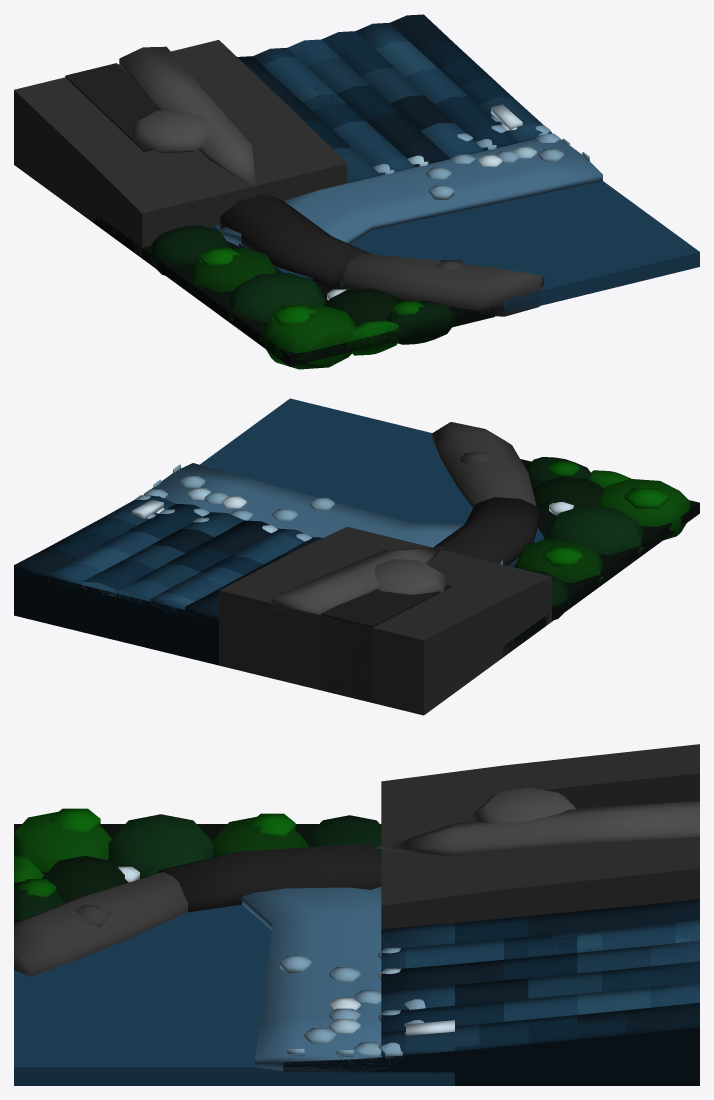
The model's file is newshh-157.glb.
3 views of the same model, one above another, from view 1: azimuth 30°, elevation 25°; view 2: azimuth 150°, elevation 25°; view 3: azimuth 270°, elevation 25° (orthographic). The views are drawn at different scales.
Visible parts, largest first — view 1: newshh-157, newshh-157-water-157, newshh-157-water-278, newshh-157-water-203, newshh-157-water-272; view 2: newshh-157, newshh-157-water-157, newshh-157-water-203, newshh-157-water-278, newshh-157-water-272; view 3: newshh-157, newshh-157-water-157, newshh-157-water-278, newshh-157-water-203, newshh-157-water-272.
Boxes of the visible parts, box(x1,y1,x2,y2) form: newshh-157: box(14, 40, 699, 369); newshh-157-water-157: box(237, 22, 589, 300); newshh-157-water-278: box(263, 42, 570, 174); newshh-157-water-203: box(254, 14, 522, 172); newshh-157-water-272: box(428, 133, 560, 199); newshh-157: box(14, 398, 699, 715); newshh-157-water-157: box(14, 464, 573, 621); newshh-157-water-203: box(14, 499, 302, 606); newshh-157-water-278: box(44, 480, 312, 601); newshh-157-water-272: box(143, 489, 334, 510); newshh-157: box(14, 744, 699, 1085); newshh-157-water-157: box(117, 866, 699, 1058); newshh-157-water-278: box(336, 922, 675, 1057); newshh-157-water-203: box(378, 920, 699, 1035); newshh-157-water-272: box(280, 955, 381, 1059).
Size of the model in its own units: 2 by 0.4883 by 2.33.
